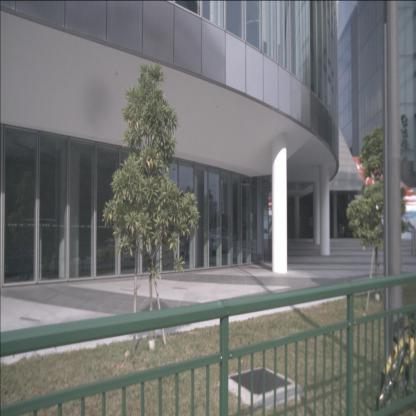vehicle-bicycle: (376, 311, 416, 412)
vehicle-car: (95, 236, 131, 264), (208, 227, 239, 256)
